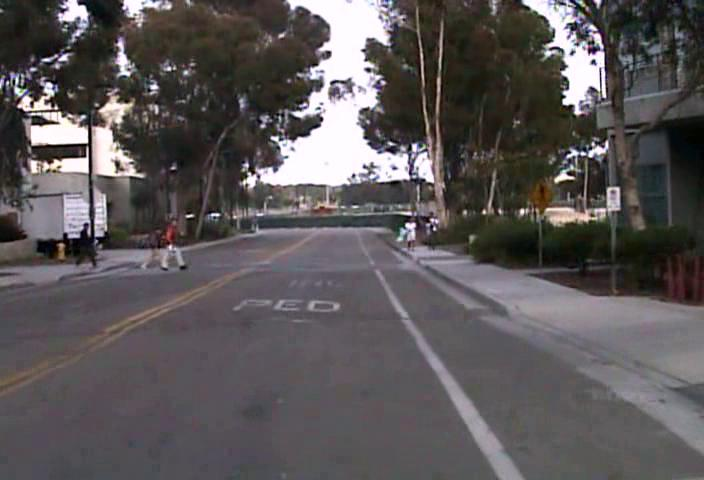pedestrianCrossing: (526, 177, 556, 212)
